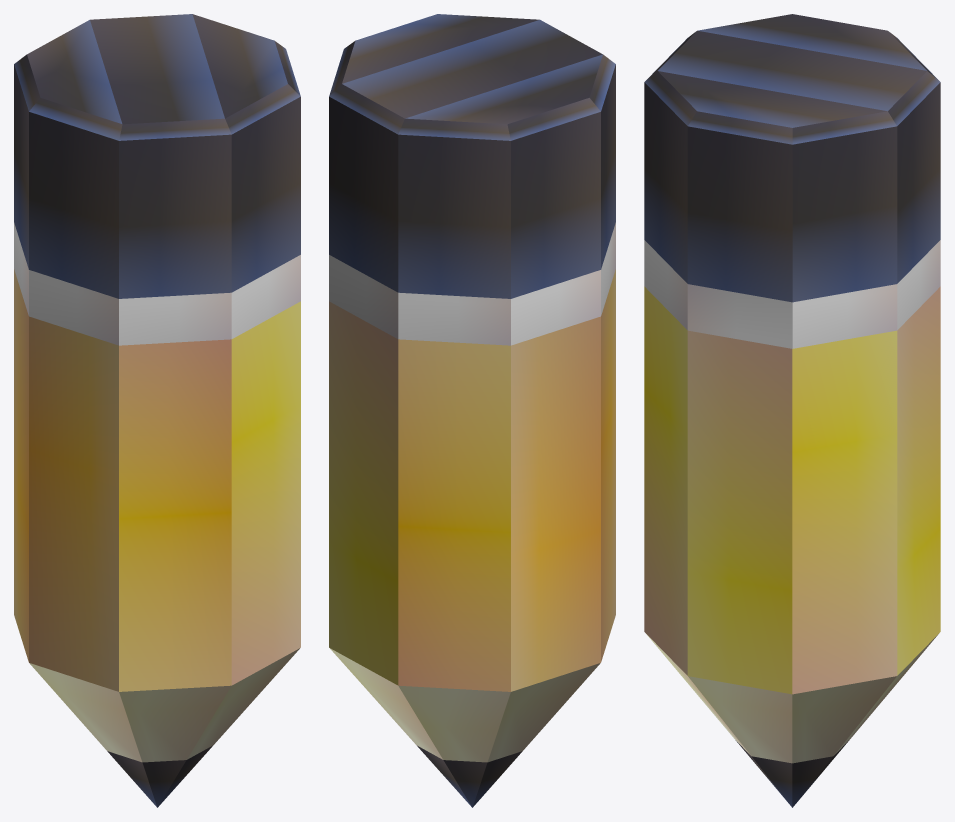
The model's file is pencil01.fbx.
3 renders of one model, left to right at view 1: azimuth 30°, elevation 25°; view 2: azimuth 150°, elevation 25°; view 3: azimuth 270°, elevation 25°, orthographic.
Visible parts, largest first — view 1: pencil01; view 2: pencil01; view 3: pencil01.
Boxes of the visible parts, box(x1,y1,x2,y2) form: pencil01: box(14, 14, 300, 807); pencil01: box(329, 14, 615, 807); pencil01: box(644, 14, 940, 807).
Size of the model in its own units: 40.38 by 111 by 40.38.
